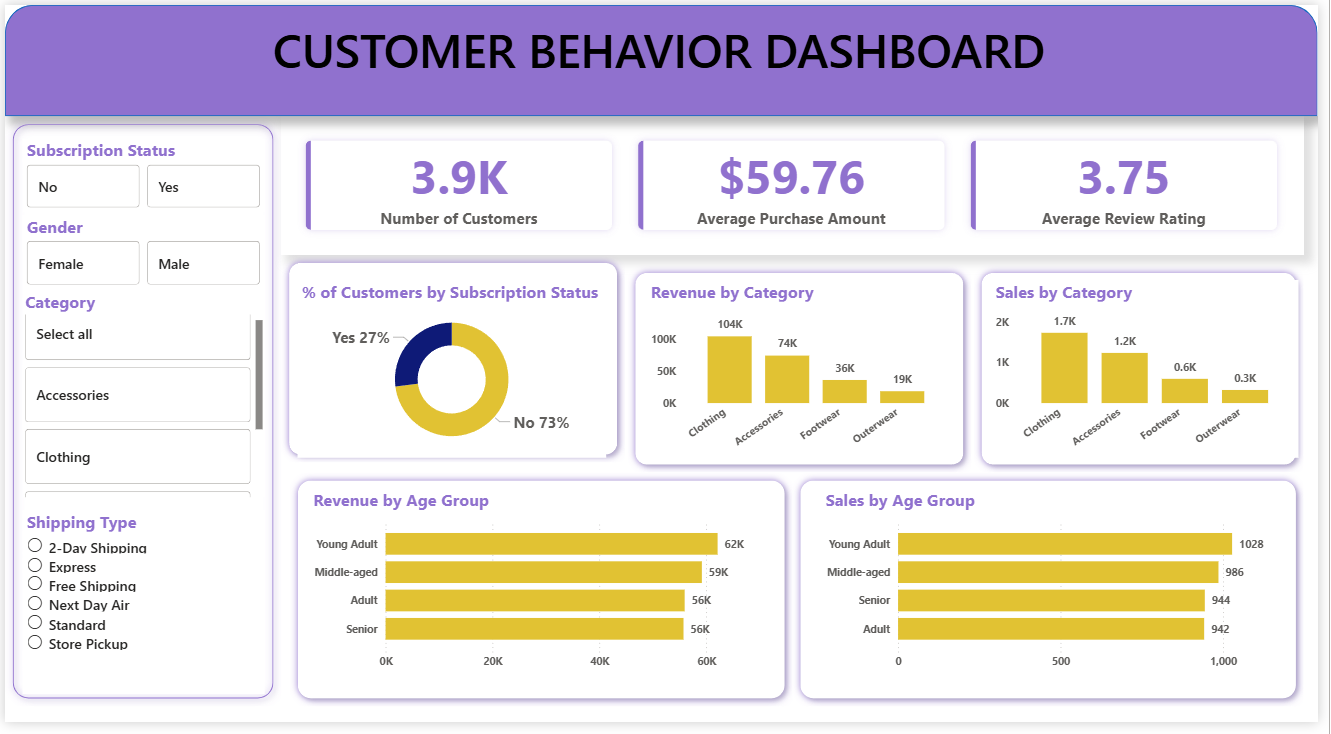

Layout of this report page (visuals, bound fields, positions):
{"tool":"powerbi","page":{"name":"Page 1","canvas":[1500,820],"ordinal":0},"visuals":[{"type":"cardVisual","fields":{"Data":["customer.Number of Customers","customer.Average Purchase Amount","customer.Average Review Rating"]},"box":[315.7,127.1,1168.6,158.6],"z":0},{"type":"shape","box":[0,0,1500,127.1],"z":1000},{"type":"textbox","box":[10,10,1474.3,107.1],"z":2000},{"type":"shape","box":[315.7,285.7,392.9,237.1],"z":3000},{"type":"donutChart","title":"% of Customers by Subscription Status","fields":{"Category":["customer.subscription_status"],"Y":["CountNonNull(customer.customer_id)"]},"box":[334.3,314.3,352.9,202.9],"z":4000},{"type":"shape","box":[711.4,297.1,392.9,237.1],"z":5000},{"type":"shape","box":[1107.1,297.1,377.1,237.1],"z":6000},{"type":"clusteredColumnChart","title":"Revenue by Category","fields":{"Y":["Sum(customer.purchase_amount)"],"Category":["customer.category"]},"box":[732.9,314.3,351.4,202.9],"z":7000},{"type":"clusteredColumnChart","title":"Sales by Category","fields":{"Category":["customer.category"],"Y":["CountNonNull(customer.customer_id)"]},"box":[1127.1,314.3,351.4,202.9],"z":8000},{"type":"shape","box":[0,127.1,315.7,674.3],"z":9000},{"type":"advancedSlicerVisual","title":"Subscription Status","fields":{"Values":["customer.subscription_status"]},"box":[20,152.9,277.1,84.3],"z":10000},{"type":"advancedSlicerVisual","title":"Gender","fields":{"Values":["customer.gender"]},"box":[20,240,277.1,85.7],"z":11000},{"type":"advancedSlicerVisual","title":"Category","fields":{"Values":["customer.category"]},"box":[20,325.7,277.1,237.1],"z":12000},{"type":"listSlicer","title":"Shipping Type","fields":{"Values":["customer.shipping_type"]},"box":[20,577.1,277.1,210],"z":13000},{"type":"shape","box":[900,534.3,584.3,267.1],"z":14000},{"type":"shape","box":[325.7,534.3,574.3,267.1],"z":15000},{"type":"clusteredBarChart","title":"Revenue by Age Group","fields":{"Y":["Sum(customer.purchase_amount)"],"Category":["customer.age_group"]},"box":[347.1,552.9,514.3,215.7],"z":15001},{"type":"clusteredBarChart","title":"Sales by Age Group","fields":{"Y":["CountNonNull(customer.customer_id)"],"Category":["customer.age_group"]},"box":[932.9,552.9,528.6,215.7],"z":15002}]}

Visuals, with their boxes in screenshot pixels (x1, y1, x2, y2), scaled from the page's 1500x820 canvas onto the 1331x734 screenshot:
cardVisual - customer.Number of Customers x customer.Average Purchase Amount: (left=280, top=114, right=1317, bottom=256)
shape: (left=0, top=0, right=1330, bottom=114)
textbox: (left=9, top=9, right=1317, bottom=105)
shape: (left=280, top=256, right=629, bottom=468)
"% of Customers by Subscription Status" donutChart: (left=297, top=281, right=610, bottom=463)
shape: (left=631, top=266, right=980, bottom=478)
shape: (left=982, top=266, right=1317, bottom=478)
"Revenue by Category" clusteredColumnChart: (left=650, top=281, right=962, bottom=463)
"Sales by Category" clusteredColumnChart: (left=1000, top=281, right=1312, bottom=463)
shape: (left=0, top=114, right=280, bottom=717)
"Subscription Status" advancedSlicerVisual: (left=18, top=137, right=264, bottom=212)
"Gender" advancedSlicerVisual: (left=18, top=215, right=264, bottom=292)
"Category" advancedSlicerVisual: (left=18, top=292, right=264, bottom=504)
"Shipping Type" listSlicer: (left=18, top=517, right=264, bottom=705)
shape: (left=799, top=478, right=1317, bottom=717)
shape: (left=289, top=478, right=799, bottom=717)
"Revenue by Age Group" clusteredBarChart: (left=308, top=495, right=764, bottom=688)
"Sales by Age Group" clusteredBarChart: (left=828, top=495, right=1297, bottom=688)
